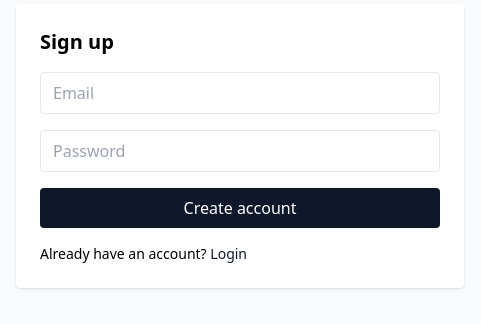
Test: Signup › should display generic error message when error response has no message
In the field with placeholder "Email": (240, 93) [40, 72, 440, 114], type "test@example.com"
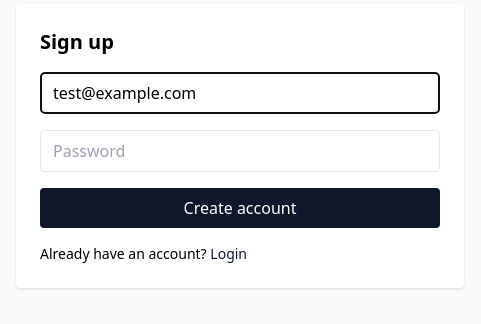
In the password field with placeholder "Password": (240, 151) [40, 130, 440, 172], type "password123"
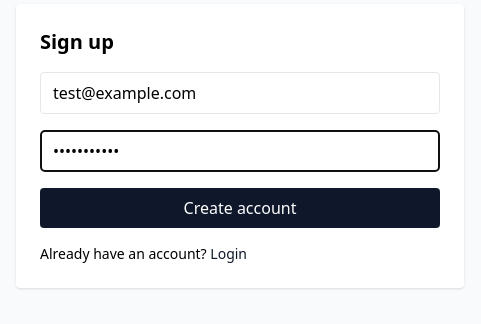
Click the button "Create account": (240, 208) [40, 188, 440, 228]
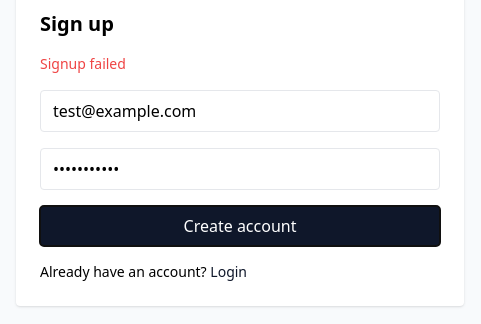
expect the text "Signup failed" is shown: met, box [40, 54, 126, 73]
